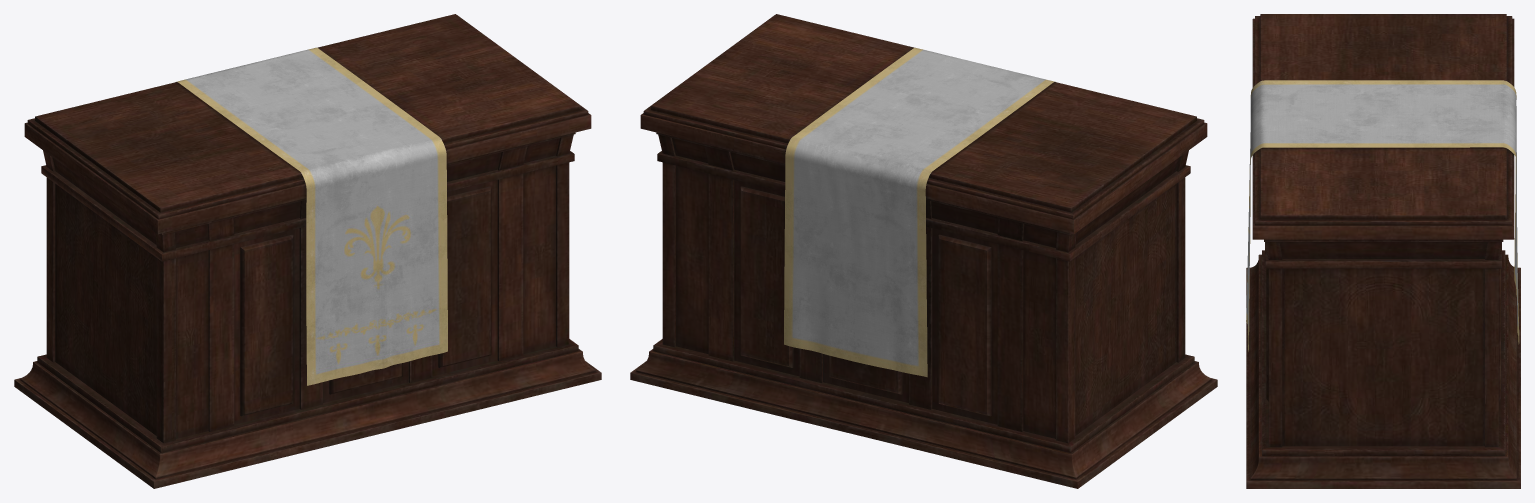
File: altar.glb
The picture shows the model from 3 angles, left to right: view 1: azimuth 30°, elevation 25°; view 2: azimuth 150°, elevation 25°; view 3: azimuth 270°, elevation 25°; orthographic projection.
Bounding box in the file's own units: 4.41 × 2.58 × 2.39.
2 materials, 2 textured.
